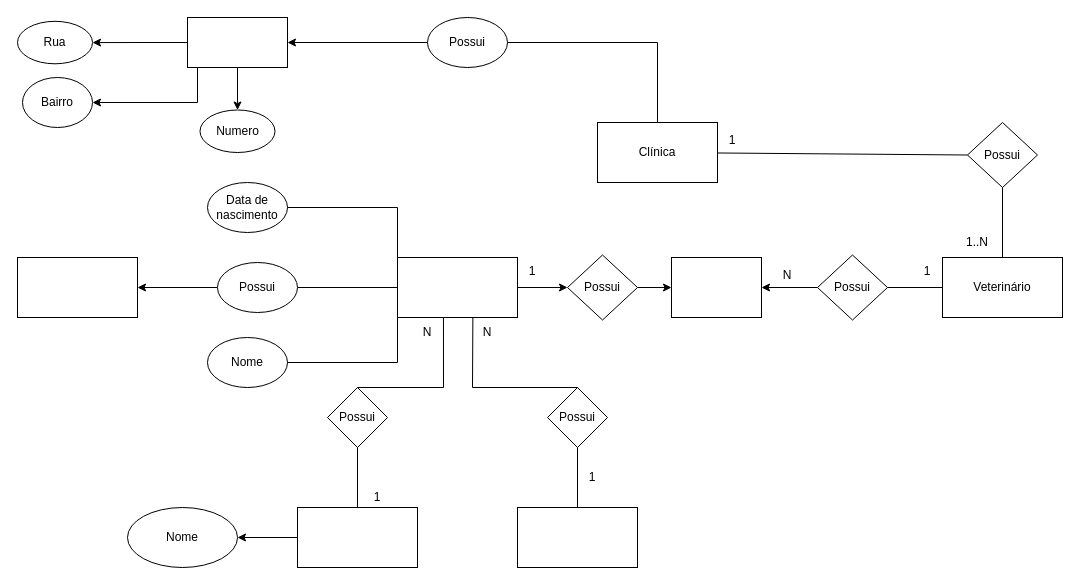
Image size: 1080x585. Some labels were removed from this diagram. Here are the shapes that lost their labels. From the top down, the box of each, then its label:
(186, 16, 288, 68): Endereço
(16, 256, 138, 318): Tipo de Pet
(396, 256, 518, 318): Pets
(670, 256, 762, 318): Atendimento
(296, 506, 418, 568): Dono
(516, 506, 638, 568): Raça
